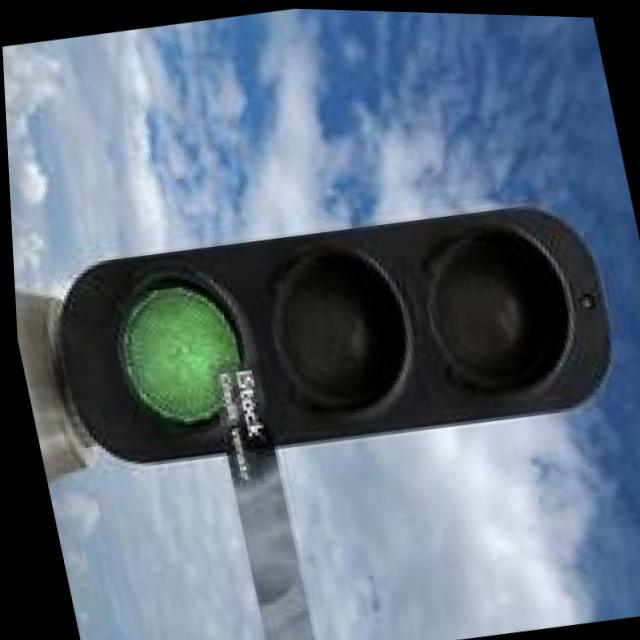green_light: (79, 215, 272, 485)
